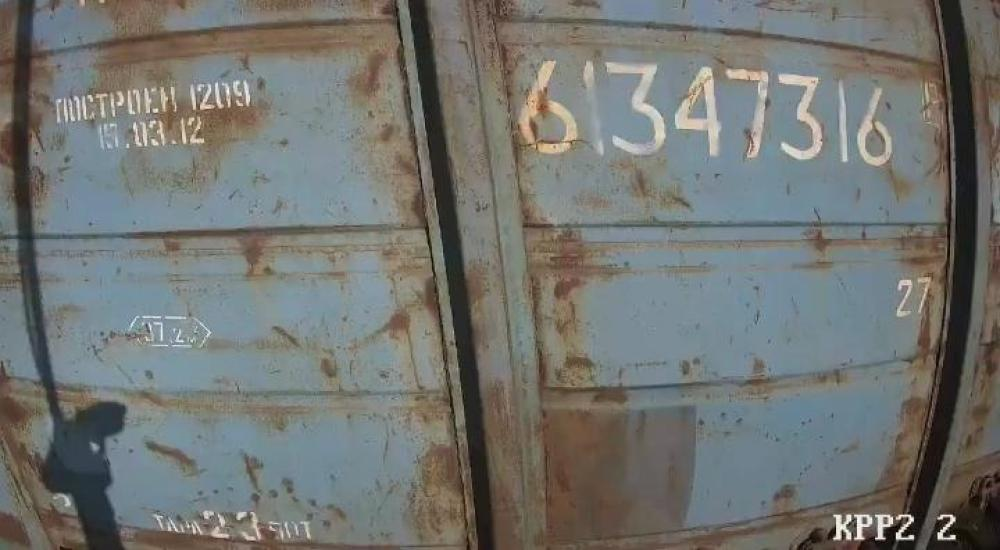Wagon-number: (515, 55, 900, 170)
